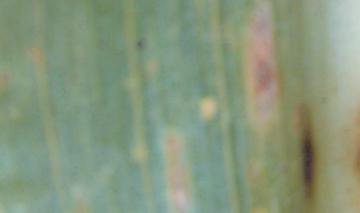tarspot: (302, 112, 315, 200), (134, 39, 144, 50)
